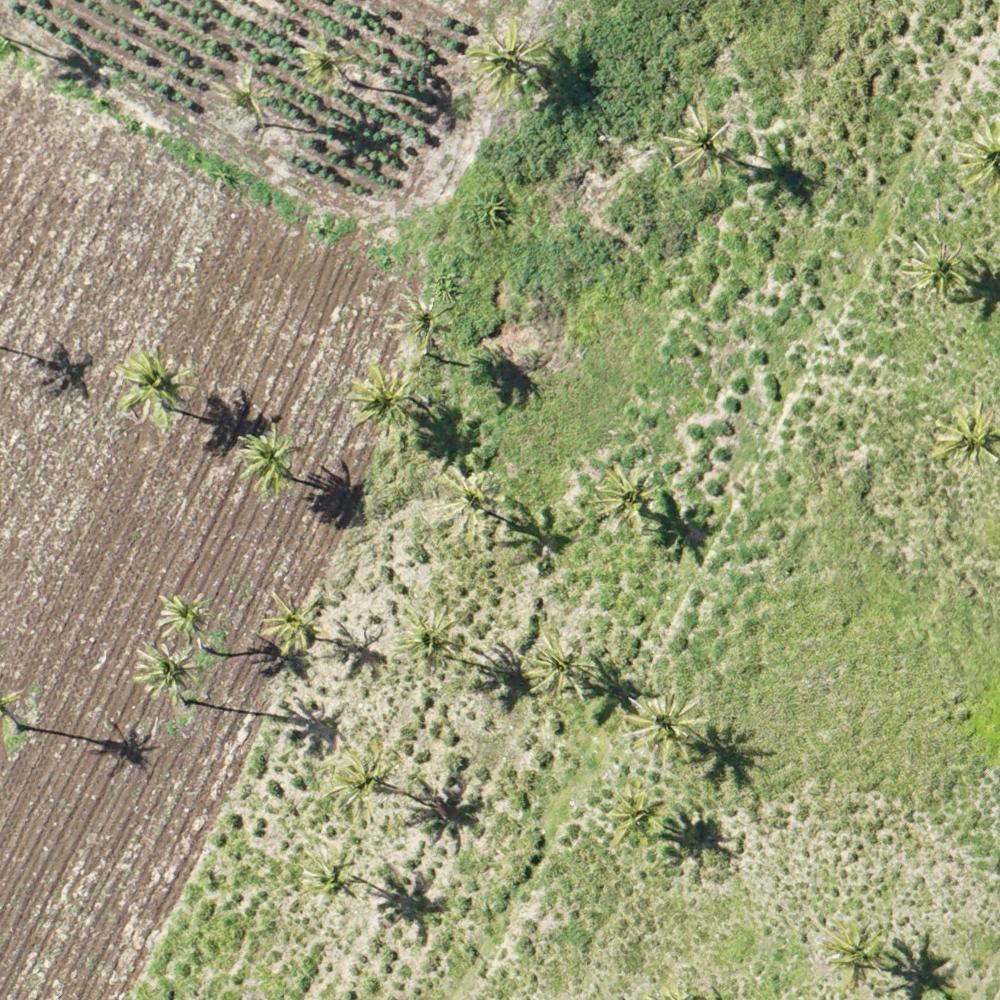Palm: (619, 688, 707, 765), (468, 22, 551, 101), (323, 744, 404, 823), (116, 347, 193, 430), (900, 235, 974, 307), (236, 424, 303, 502), (393, 607, 465, 678), (666, 107, 737, 178), (818, 918, 889, 988), (292, 841, 364, 908), (932, 399, 1000, 469), (437, 468, 507, 536), (526, 630, 595, 696), (262, 591, 328, 659), (348, 360, 413, 429), (136, 639, 203, 705), (593, 463, 659, 529), (298, 29, 361, 95), (603, 786, 672, 845), (387, 289, 452, 351), (159, 592, 209, 641)
